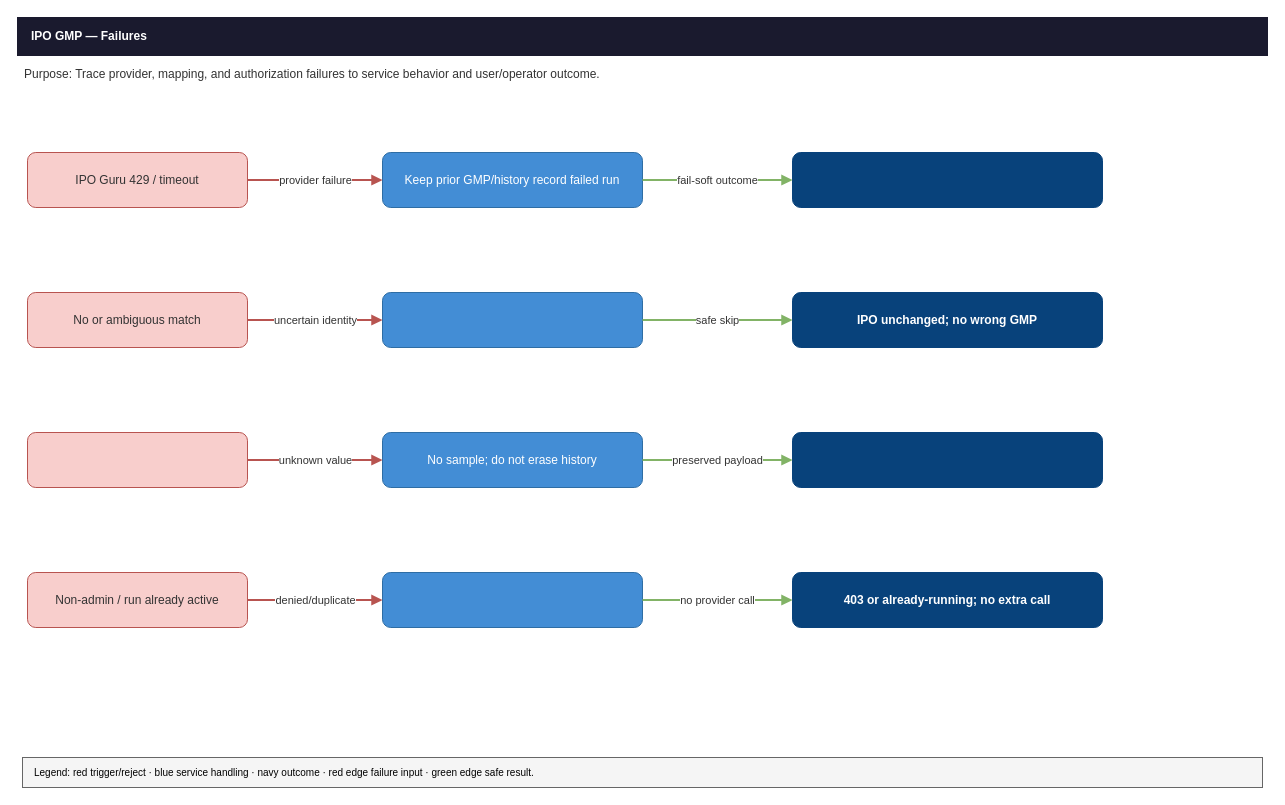
Image size: 1285x805. Some labels were removed from this diagram. Here are the shapes that lost their labels. From the top down, the centre of each, then its label:
At point (947, 180): "IPO API works; admin sees failure time".
At point (512, 320): "Skip and count unmatched".
At point (137, 460): "Null GMP".
At point (947, 460): "Optional field absent or timestamped last value".
At point (512, 600): "Role check / shared run guard".
